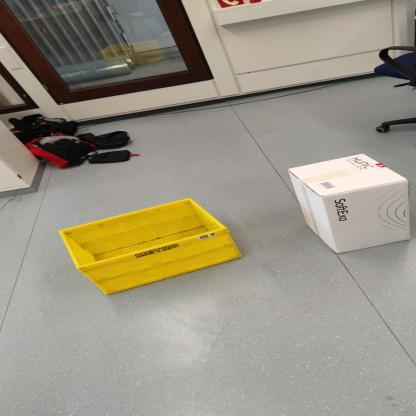-: (60, 193, 252, 305), (260, 145, 416, 273)
